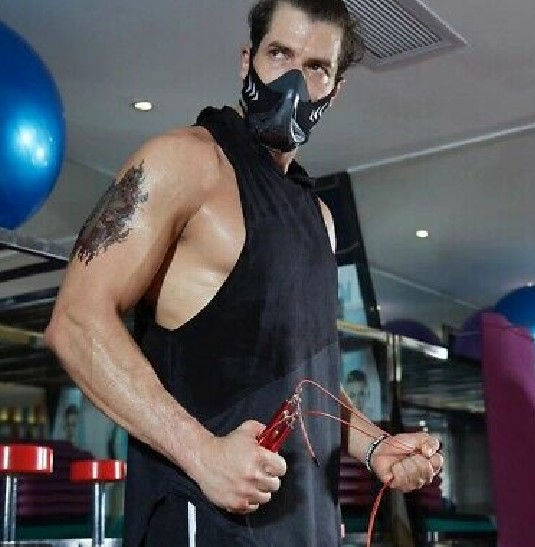face_with_mask: (238, 3, 350, 155)
